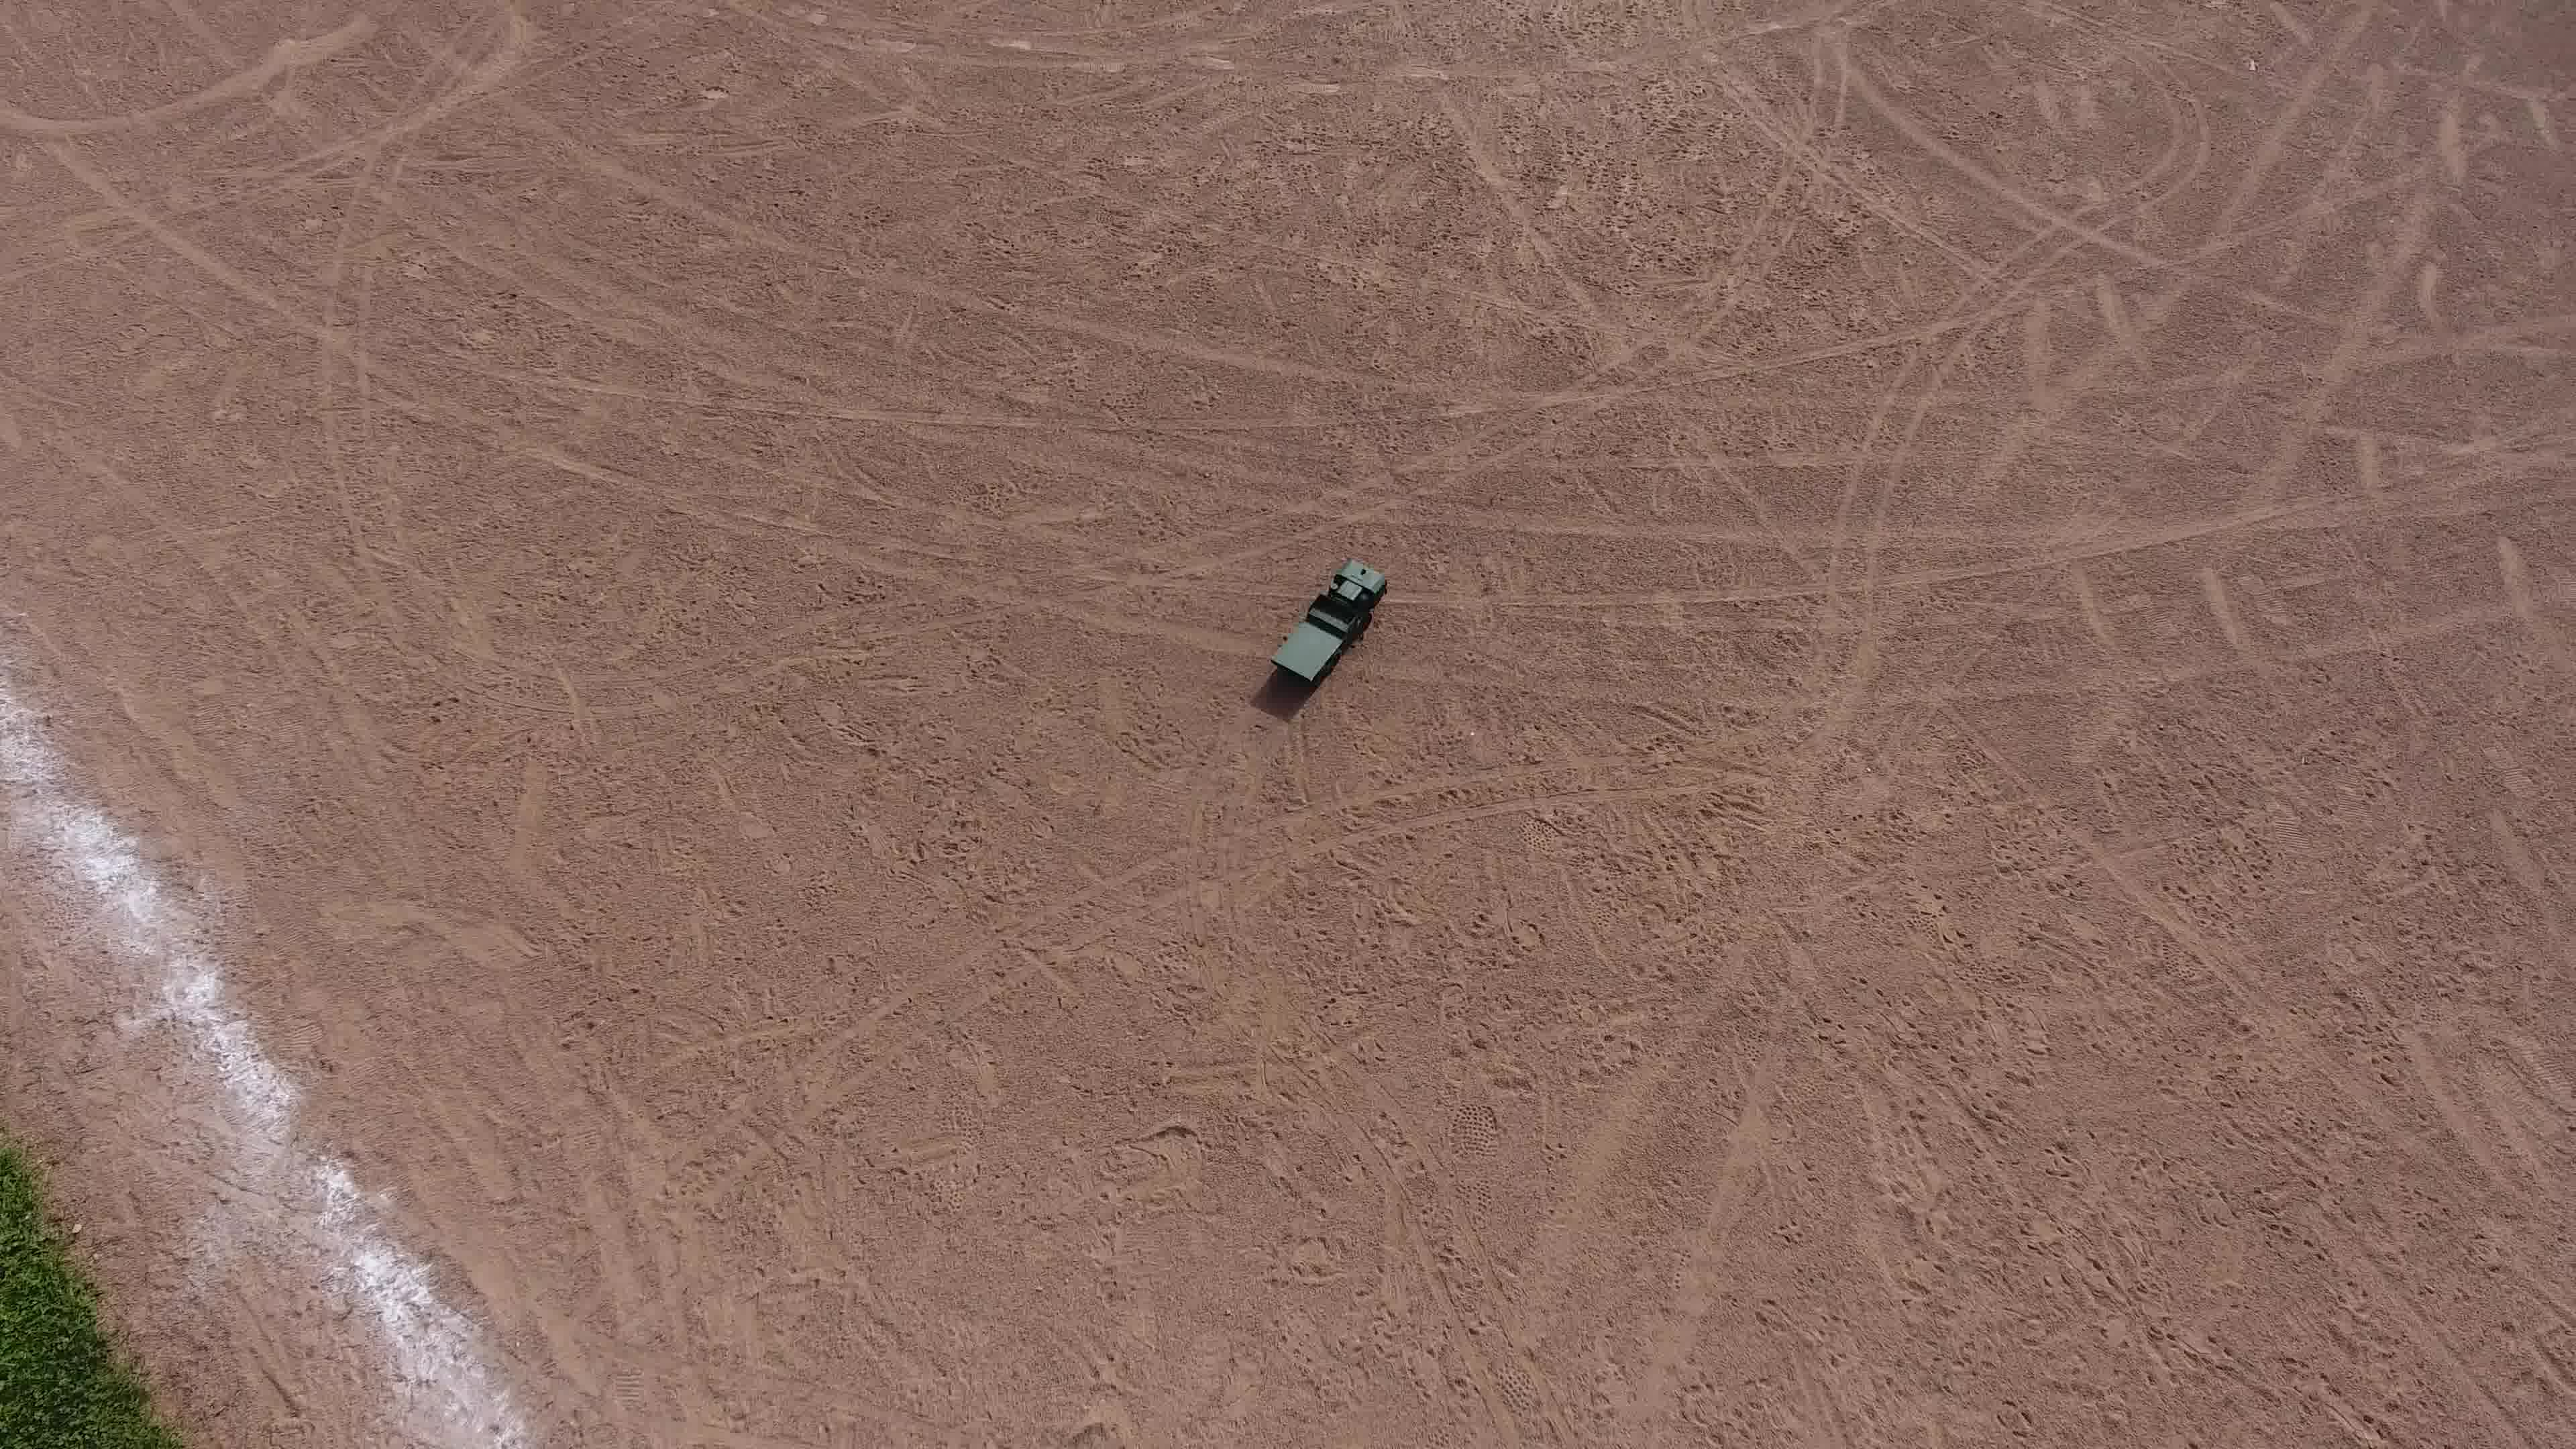transporter9: (1258, 552, 1396, 692)
